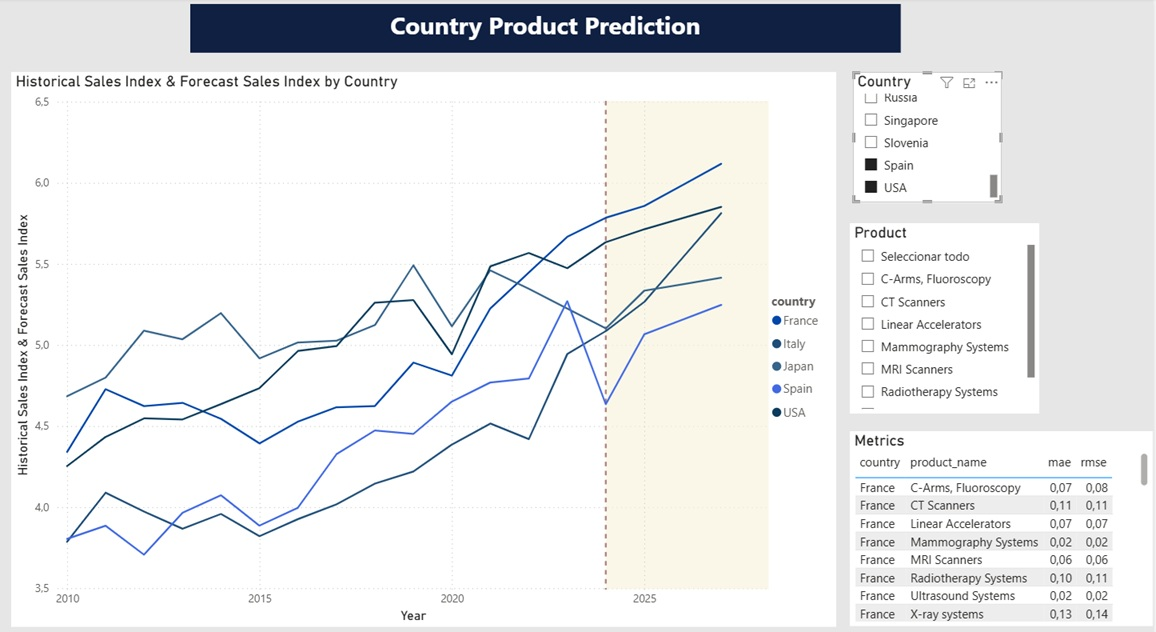

The page's visual inventory and layout, read from the dashboard file:
{"tool":"powerbi","page":{"name":"Page 6","canvas":[1280,720],"ordinal":6},"visuals":[{"type":"slicer","title":"Country","fields":{"Values":["Countries.country"]},"box":[947.9,81.6,164.9,144.5],"z":0},{"type":"lineChart","title":"Historical Sales Index & Forecast Sales Index by Country","fields":{"Category":["Calendar.Año"],"Y":["_Metrics.Sales_Index_Hist_plus_Pred"],"Series":["Countries.country"]},"box":[13.8,81.3,915.2,615.1],"z":1000},{"type":"slicer","title":"Product","fields":{"Values":["Products.product_name"]},"box":[943.9,248.8,210,211.3],"z":2000},{"type":"textbox","box":[212.5,6.6,787.5,54.1],"z":3000},{"type":"tableEx","title":"Metrics","fields":{"Values":["Countries.country","Products.product_name","Predictive Model Metrics.mae","Predictive Model Metrics.rmse"]},"box":[943.9,480.1,336.3,216.3],"z":4000}]}

Visuals, with their boxes in screenshot pixels (x1, y1, x2, y2), scaled from the page's 1280x720 canvas onto the 1156x632 screenshot:
"Country" slicer: select_region(856, 72, 1005, 198)
"Historical Sales Index & Forecast Sales Index by Country" lineChart: select_region(12, 71, 839, 611)
"Product" slicer: select_region(852, 218, 1042, 404)
textbox: select_region(192, 6, 903, 53)
"Metrics" tableEx: select_region(852, 421, 1155, 611)
